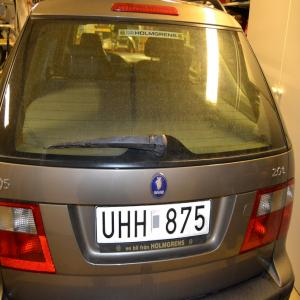Vehicle-registration-plate: (96, 200, 212, 245)
